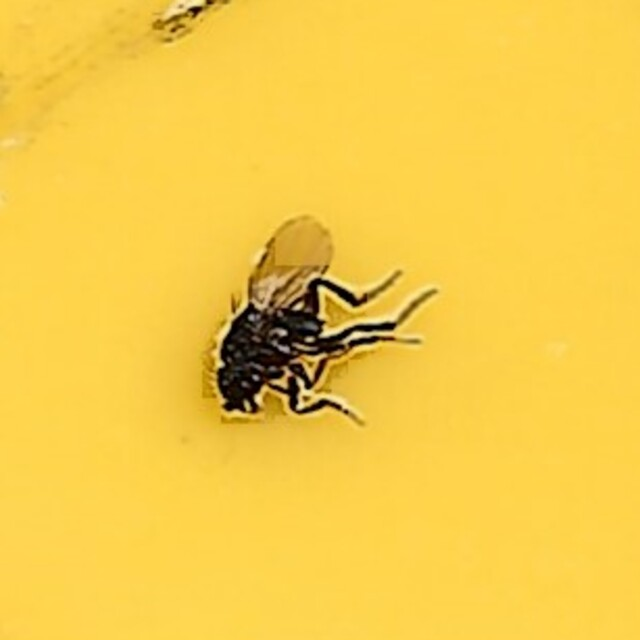Brachycera: (208, 214, 432, 426)
